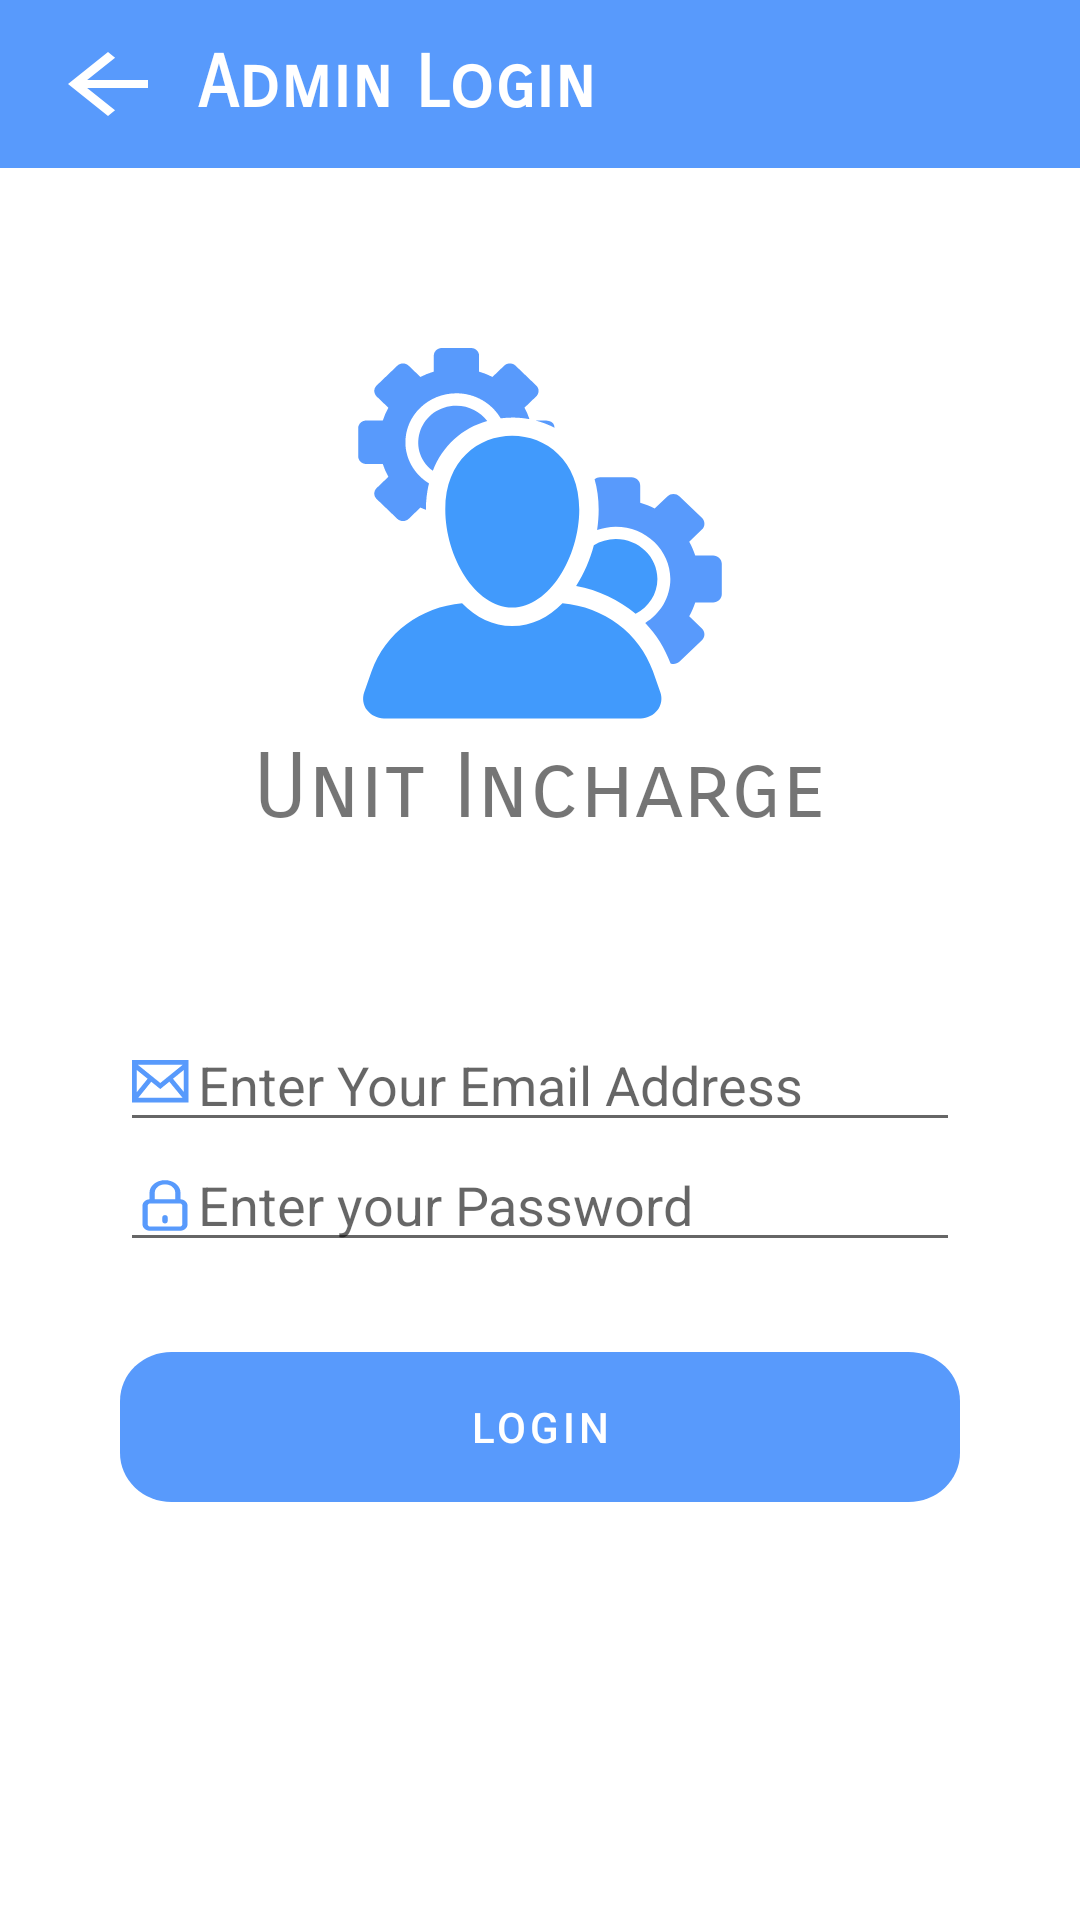

Screen size 1080x1920. Icon name, then its box in pixels as bbox=(x1, y1, x2, y2):
back arrow: bbox=(68, 52, 148, 116)
